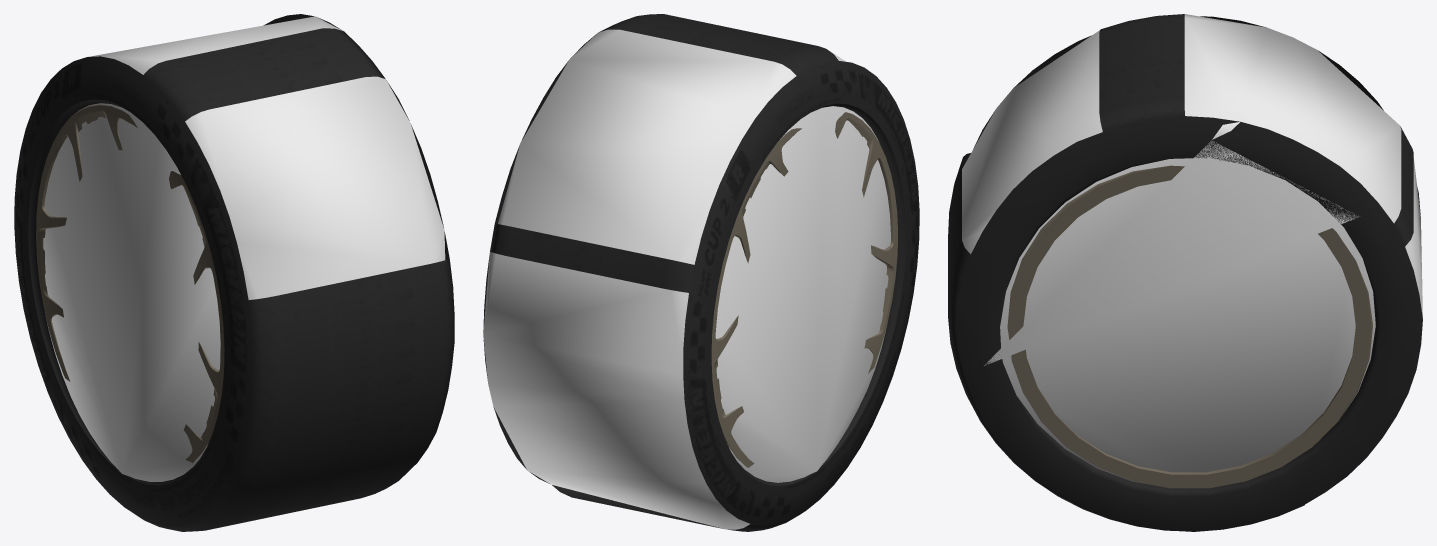
3 renders of one model, left to right at view 1: azimuth 30°, elevation 25°; view 2: azimuth 150°, elevation 25°; view 3: azimuth 270°, elevation 25°, orthographic. The views are drawn at different scales.
Parts seen in each view (by area): view 1: wheel_stampede_rear_01, wheel_stampede_rear_01_col; view 2: wheel_stampede_rear_01_col, wheel_stampede_rear_01; view 3: wheel_stampede_rear_01_col, wheel_stampede_rear_01.
Boxes of the visible parts, left/top/right/bottom form: wheel_stampede_rear_01: left=14, top=14, right=454, bottom=531; wheel_stampede_rear_01_col: left=43, top=16, right=445, bottom=481; wheel_stampede_rear_01_col: left=483, top=29, right=890, bottom=529; wheel_stampede_rear_01: left=483, top=14, right=919, bottom=531; wheel_stampede_rear_01_col: left=962, top=14, right=1422, bottom=483; wheel_stampede_rear_01: left=948, top=14, right=1422, bottom=531.
Bounding box in the file's own units: 0.3777 × 0.7241 × 0.7034.
2 materials, 2 textured.
